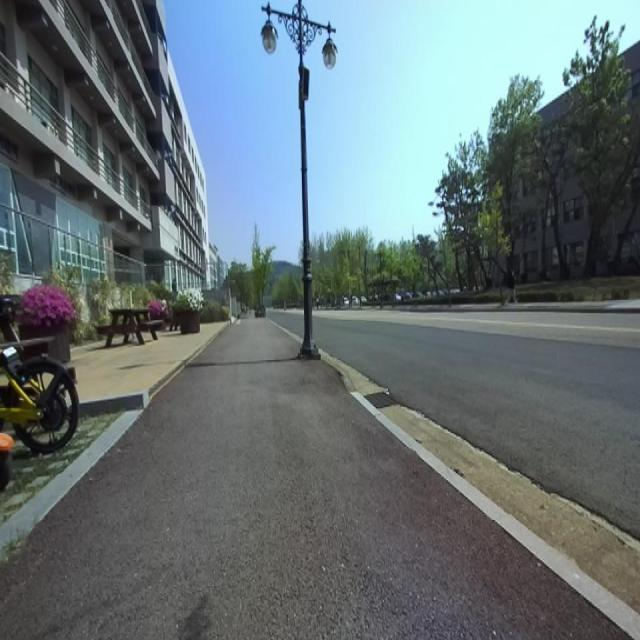sidewalk: (0, 319, 626, 639)
